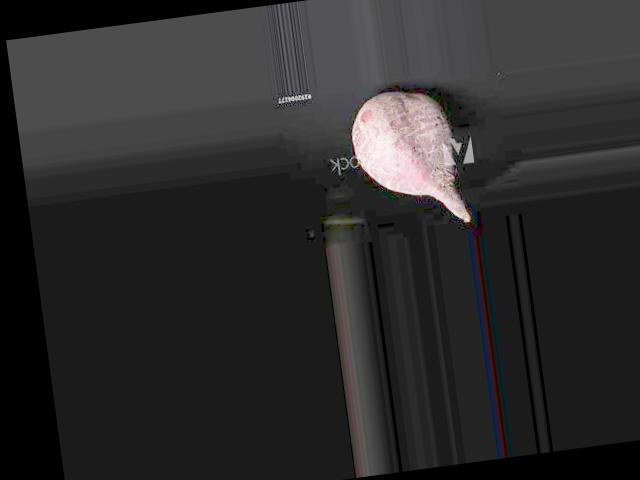beet: (346, 85, 469, 235)
